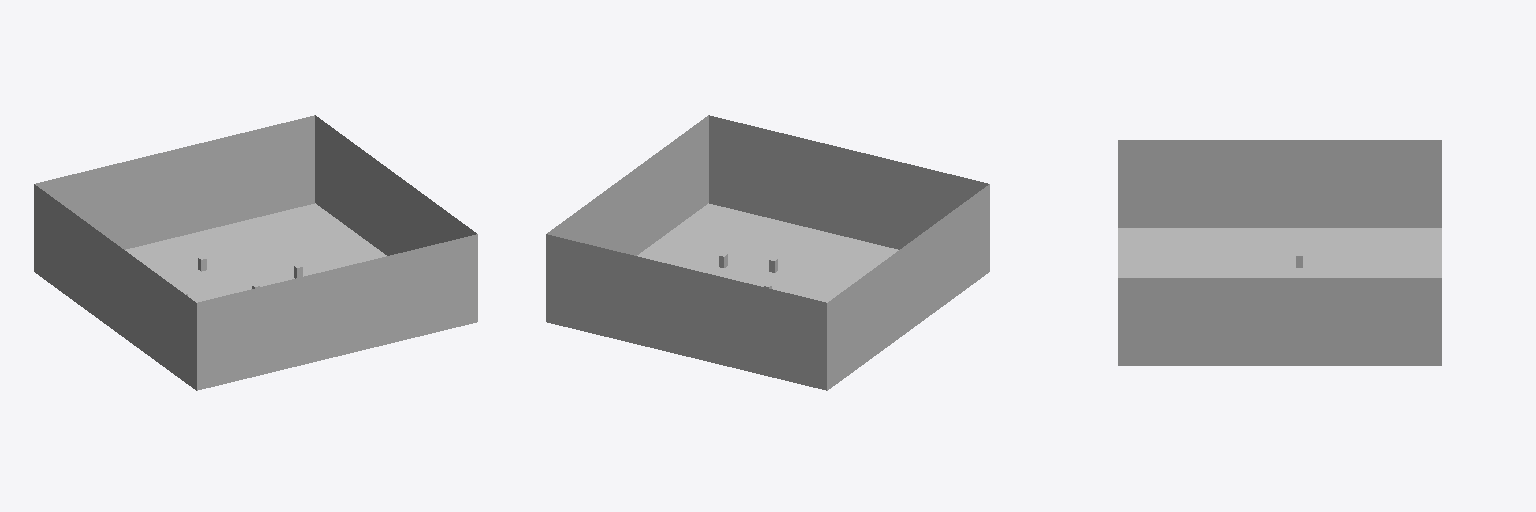
File: LVLTest.obj
3 renders of one model, left to right at view 1: azimuth 30°, elevation 25°; view 2: azimuth 150°, elevation 25°; view 3: azimuth 270°, elevation 25°, orthographic.
Parts seen in each view (by area): view 1: Plane; view 2: Plane; view 3: Plane.
Part boxes in pixels (x1,y1,x2,y2): Plane: (34, 115, 477, 390); Plane: (546, 115, 989, 390); Plane: (1118, 140, 1441, 365).
Bounding box in the file's own units: 50 × 15.97 × 50.